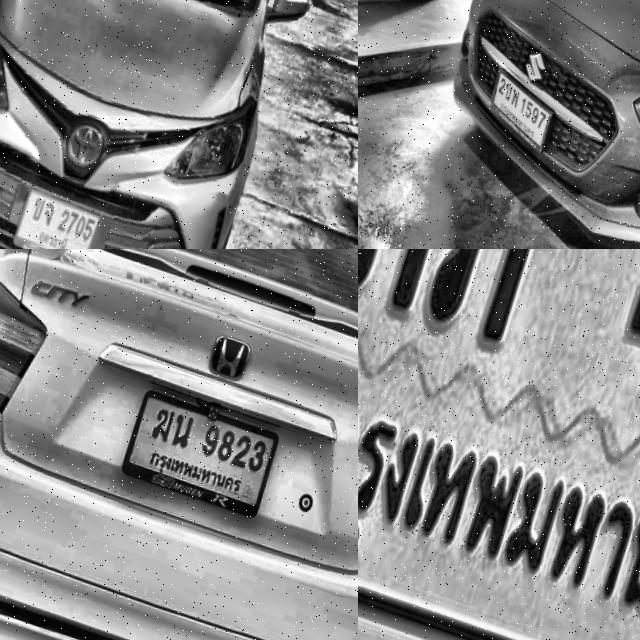license-plate: (358, 249, 640, 640), (122, 377, 289, 515), (11, 169, 114, 249), (482, 55, 570, 148)
